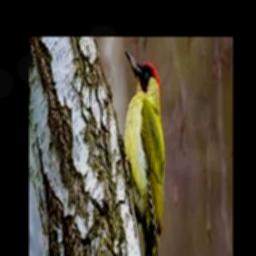Woodpecker: (117, 50, 166, 256)
